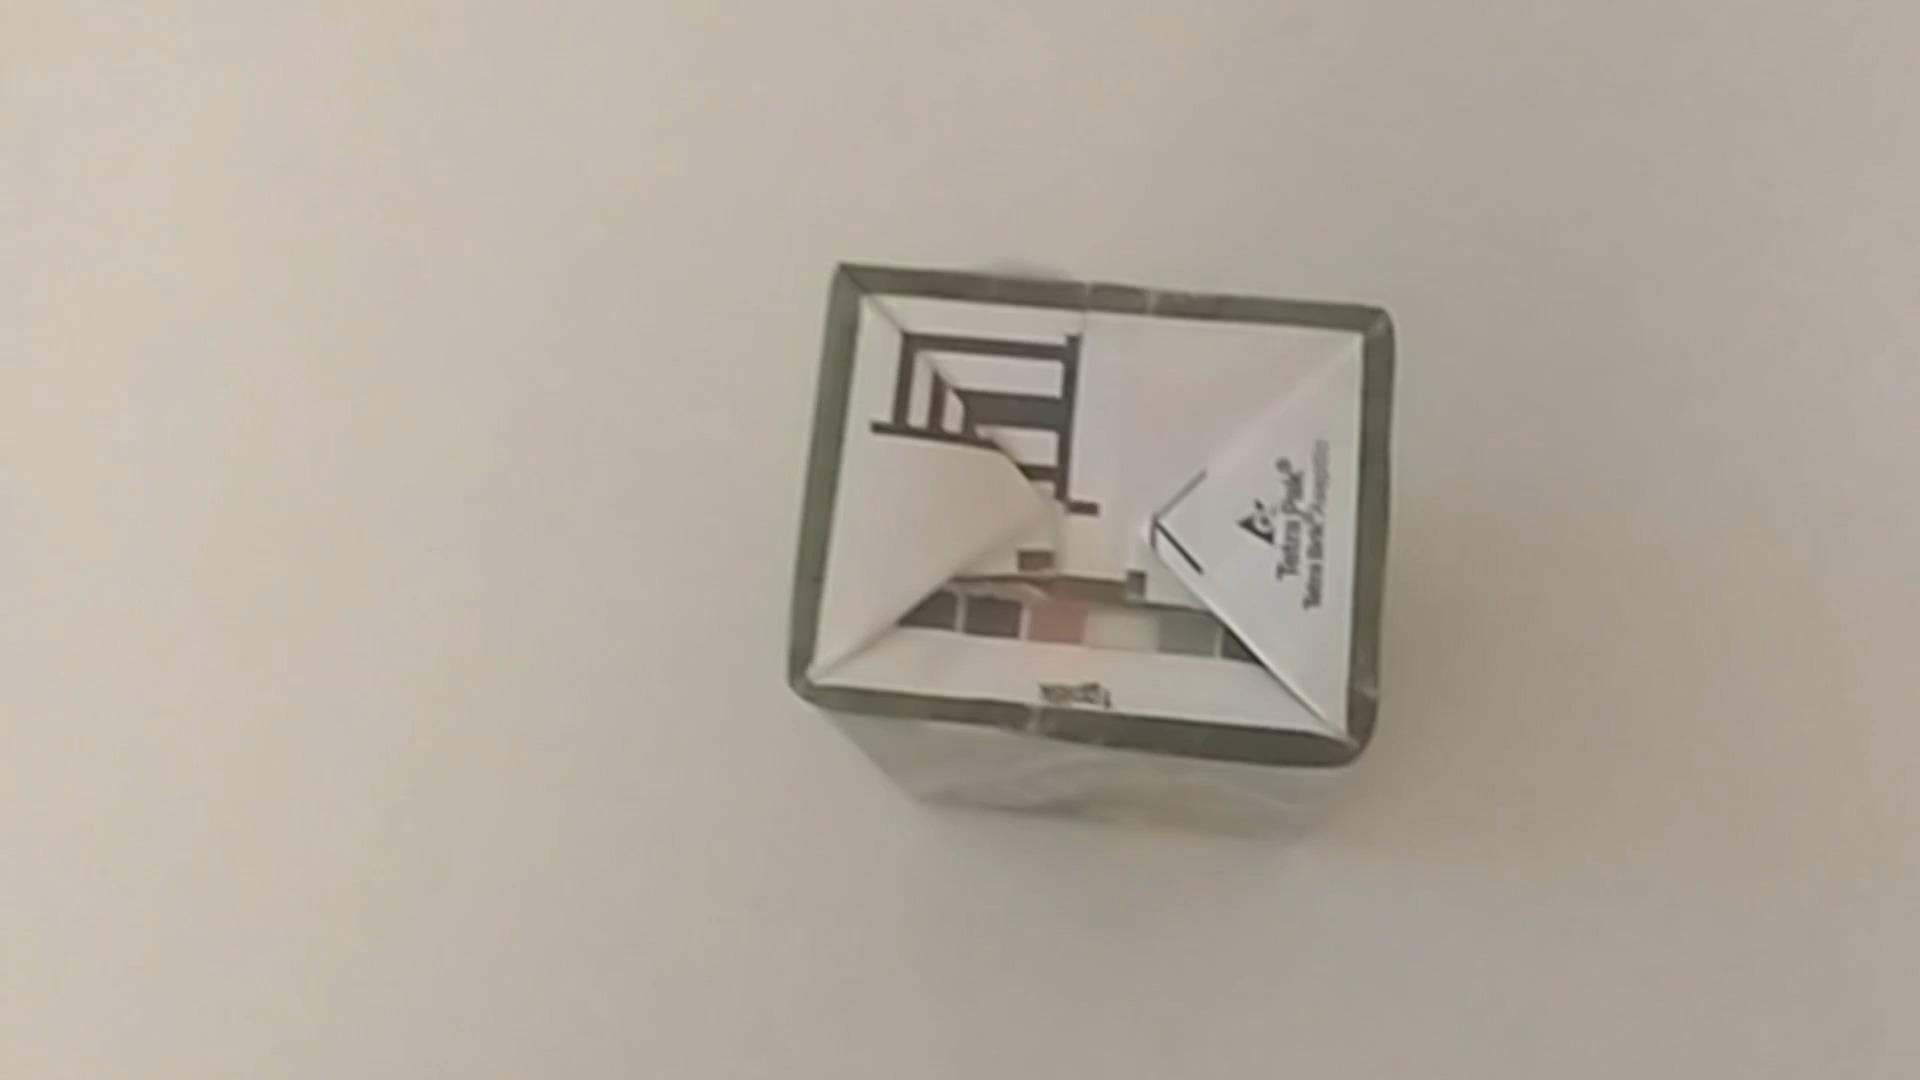coco: (781, 252, 1404, 804)
